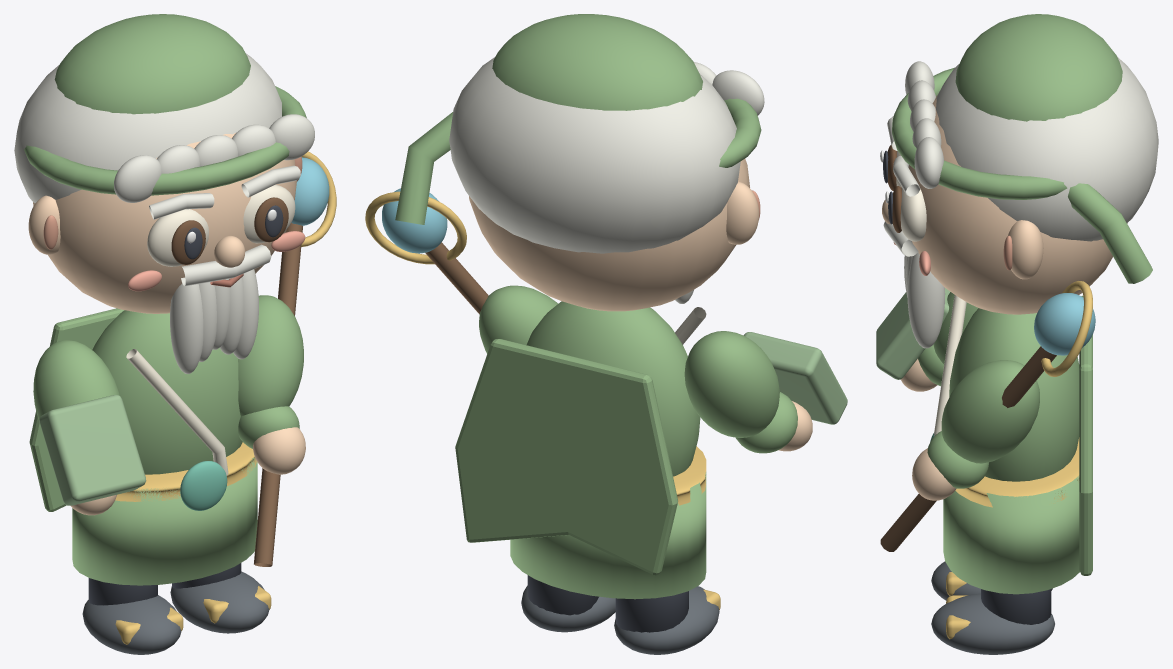
Rendered from huatuo.fbx.
3 renders of one model, left to right at view 1: azimuth 30°, elevation 25°; view 2: azimuth 150°, elevation 25°; view 3: azimuth 270°, elevation 25°, orthographic. The views are drawn at different scales.
Parts seen in each view (by area): view 1: green_cap, robe_skirt, hair_mass, face, body, medicine_book, headband, sleeve, sleeve.001, boot, boot.001, cape (+34 smaller); view 2: hair_mass, cape, green_cap, face, body, robe_skirt, sleeve.001, medicine_book, sleeve, headband_tail, boot, leg (+11 smaller); view 3: hair_mass, green_cap, face, robe_skirt, body, sleeve, headband, boot.001, headband_tail, cape, medicine_book, spell_gem (+22 smaller).
Part boxes in pixels (x1,y1,x2,y2): green_cap: (54, 14, 250, 114); robe_skirt: (72, 457, 257, 585); hair_mass: (14, 53, 281, 203); face: (33, 133, 296, 313); body: (92, 310, 242, 474); medicine_book: (39, 395, 146, 505); headband: (24, 86, 306, 195); sleeve: (238, 295, 303, 416); sleeve.001: (33, 340, 120, 420); boot: (82, 595, 181, 654); boot.001: (170, 571, 268, 633); cape: (29, 308, 124, 511); hair_mass: (449, 57, 740, 253); cape: (455, 339, 678, 575); green_cap: (492, 14, 702, 110); face: (469, 158, 749, 311); body: (526, 301, 700, 476); robe_skirt: (510, 472, 706, 599); sleeve.001: (684, 331, 779, 437); medicine_book: (743, 332, 847, 424); sleeve: (479, 285, 557, 353); headband_tail: (395, 112, 452, 224); boot: (614, 586, 719, 654); leg: (615, 591, 688, 632); hair_mass: (936, 57, 1158, 241); green_cap: (955, 14, 1122, 121); face: (900, 95, 1127, 314); robe_skirt: (943, 475, 1079, 594); body: (949, 308, 1079, 481); sleeve: (941, 360, 1039, 463); headband: (892, 67, 1067, 199); boot.001: (931, 593, 1054, 654); headband_tail: (1068, 183, 1152, 283); cape: (1079, 295, 1092, 575); medicine_book: (876, 288, 950, 379); spell_gem: (1034, 293, 1095, 355).
Bounding box in the file's own units: 1.55 × 2.45 × 1.05.
